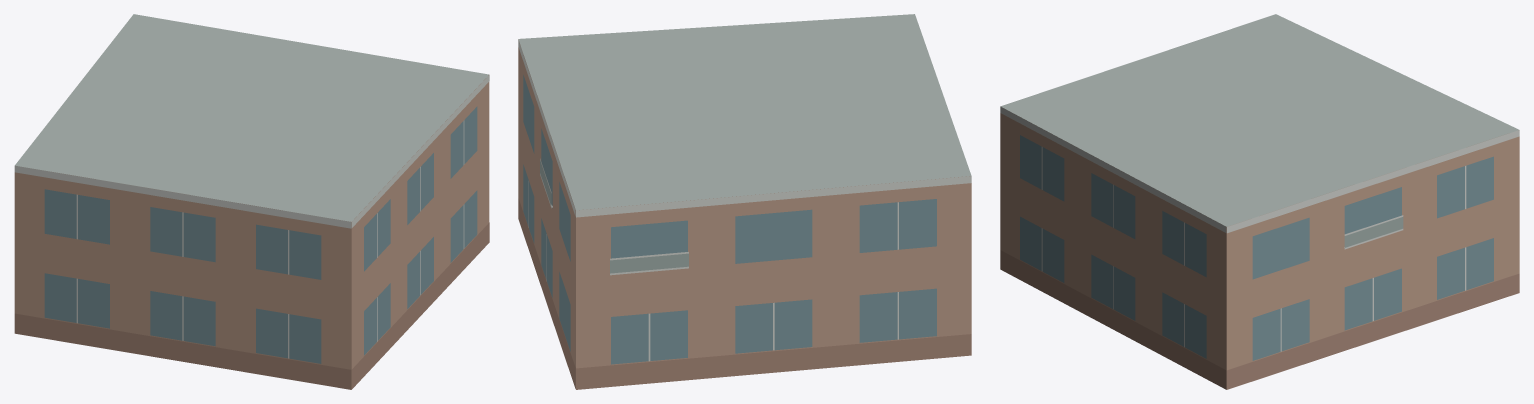
The model's file is survey-upis-32648279.glb.
The picture shows the model from 3 angles, left to right: view 1: azimuth 30°, elevation 25°; view 2: azimuth 150°, elevation 25°; view 3: azimuth 270°, elevation 25°; orthographic projection. The views are drawn at different scales.
Visible parts, largest first — view 1: survey-upis-32648279.tmp; view 2: survey-upis-32648279.tmp; view 3: survey-upis-32648279.tmp.
Part boxes in pixels (x1=…): survey-upis-32648279.tmp: x1=14, y1=14, x2=489, y2=389; survey-upis-32648279.tmp: x1=518, y1=14, x2=971, y2=389; survey-upis-32648279.tmp: x1=1000, y1=14, x2=1519, y2=389.
Size of the model in its own units: 17.09 by 6.1 by 17.62.
